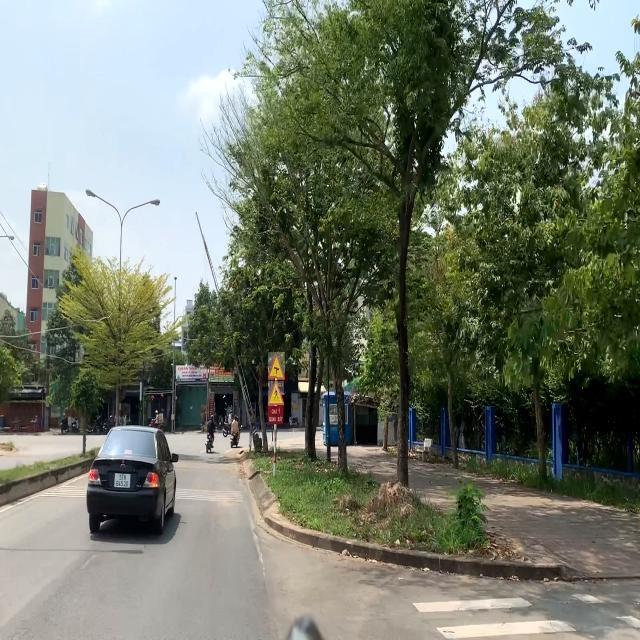bien_nguy_hiem: (268, 352, 285, 380), (268, 381, 284, 406)
